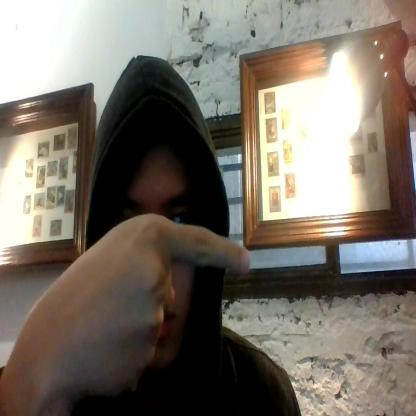left: (34, 208, 253, 401)
